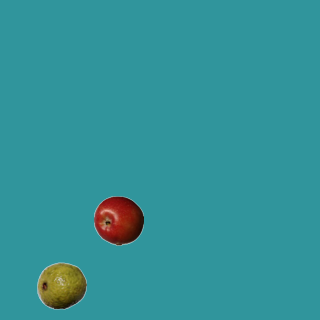Apple Braeburn: (93, 195, 143, 245)
Guava: (36, 260, 86, 310)
